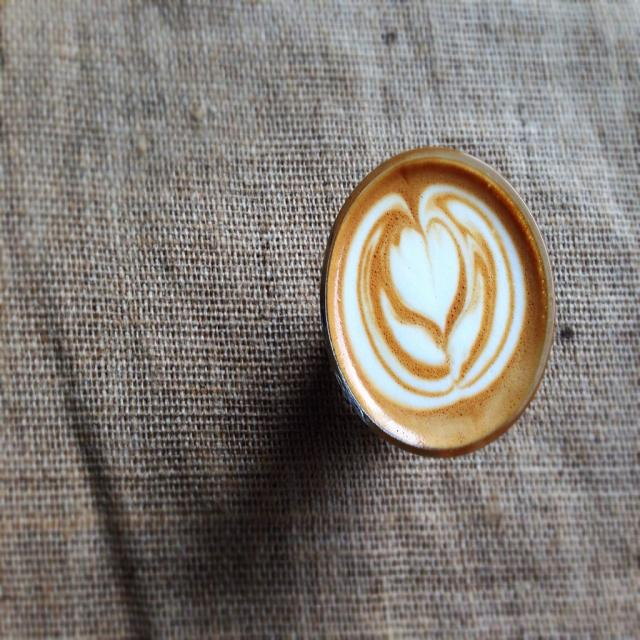Coffee: (318, 136, 554, 475)
